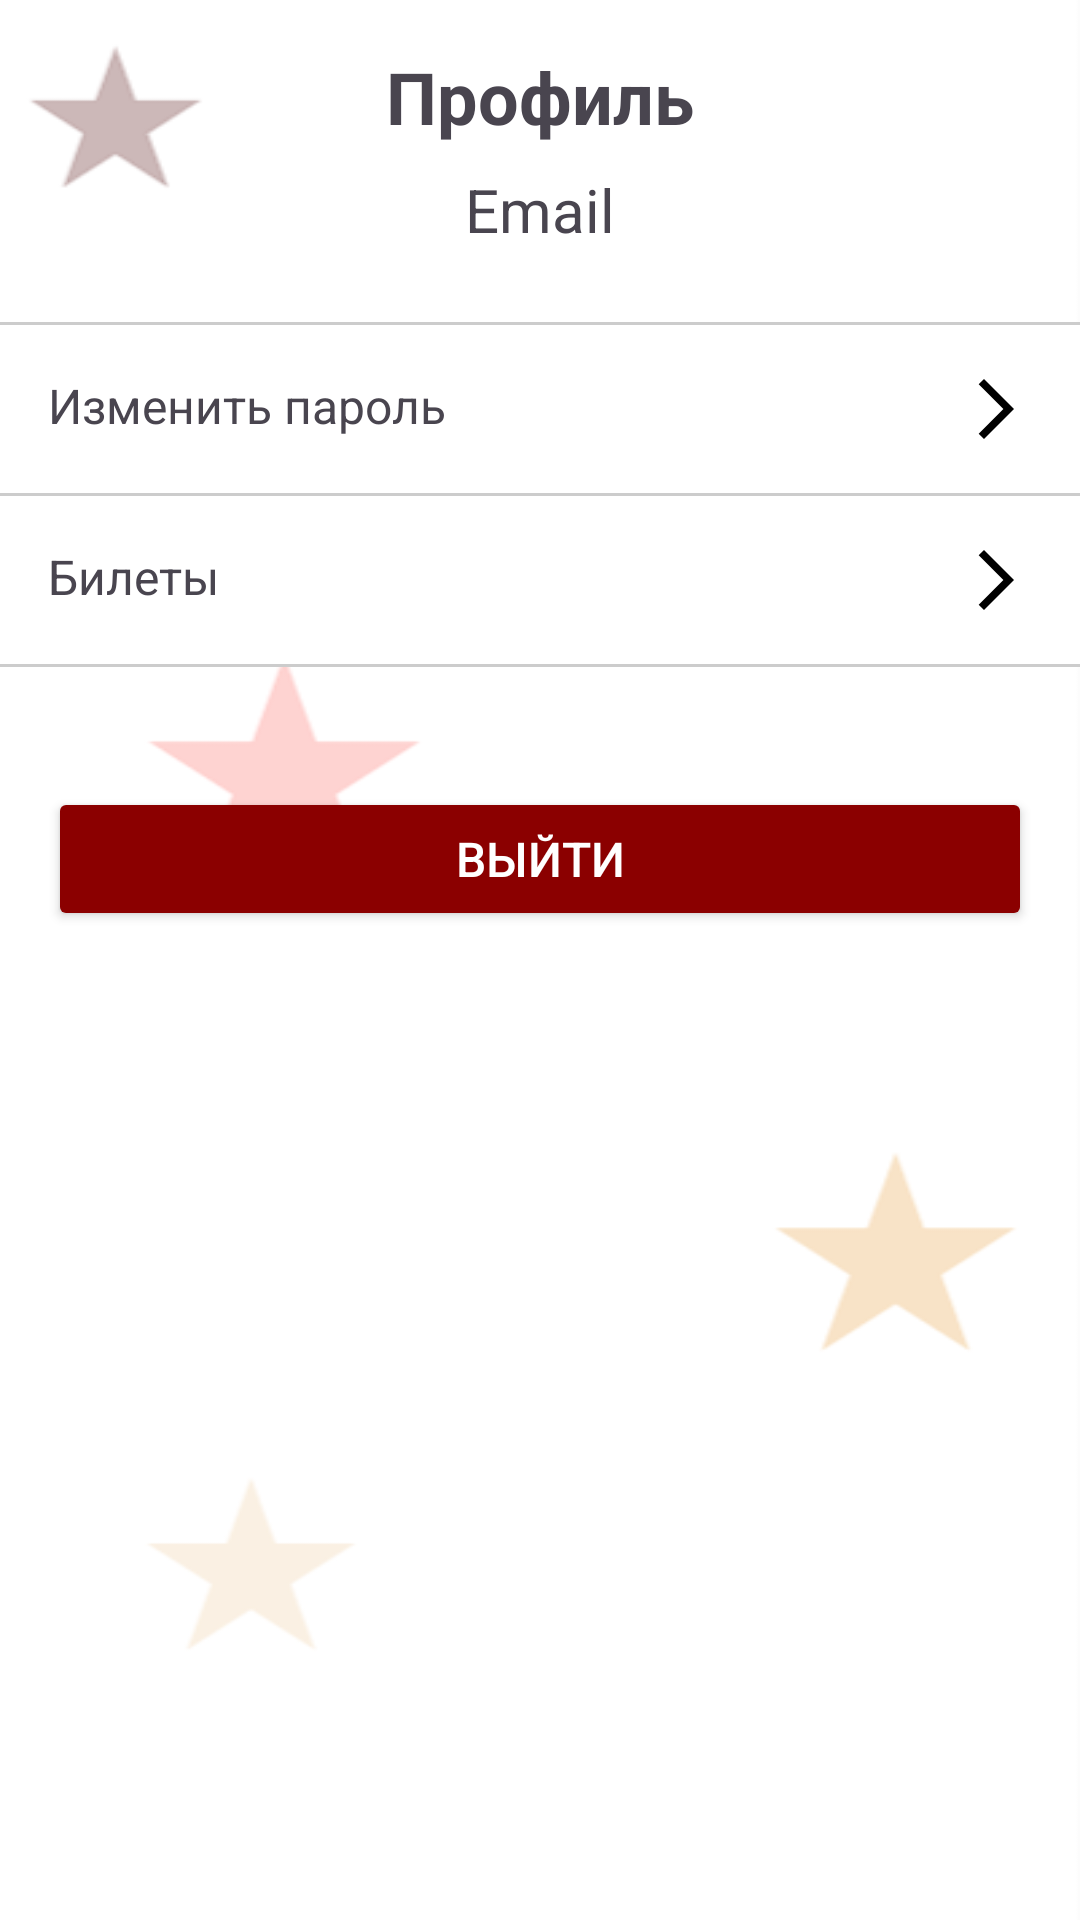

Icons on this 1080×1920 Android screen, each with the point to tap as (x,y):
arrow forward: (996,409), (996,580)
